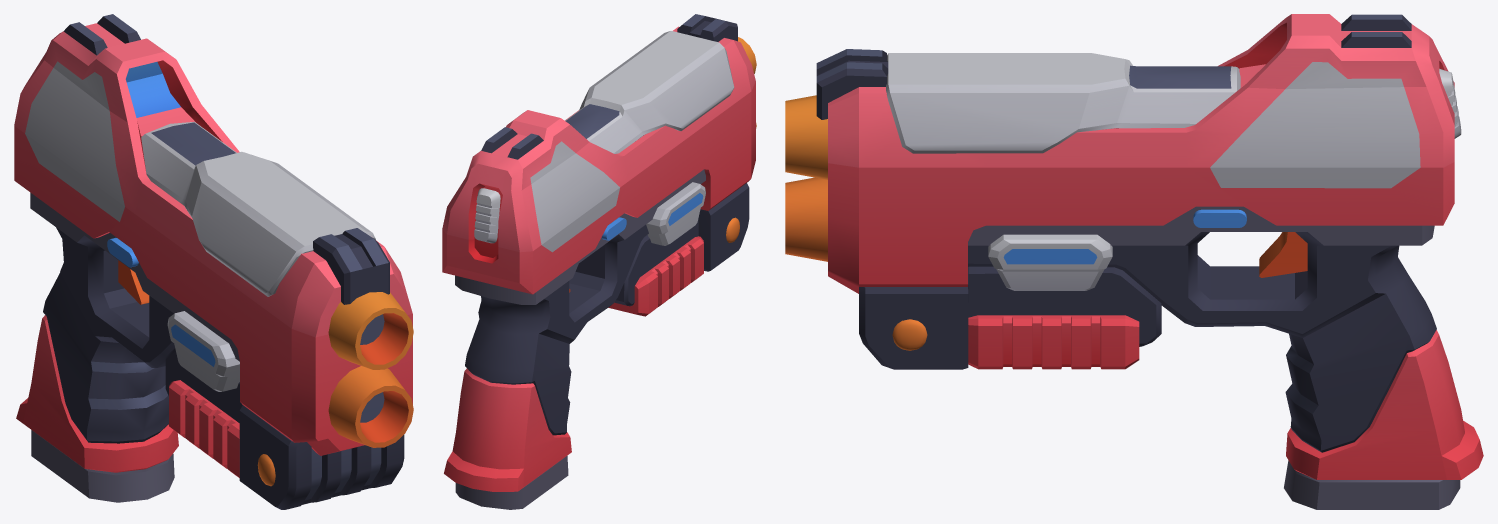
Rendered from Pistol B.fbx.
The picture shows the model from 3 angles, left to right: view 1: azimuth 30°, elevation 25°; view 2: azimuth 150°, elevation 25°; view 3: azimuth 270°, elevation 25°; orthographic projection. The views are drawn at different scales.
Parts seen in each view (by area): view 1: Pistol B; view 2: Pistol B; view 3: Pistol B.
Boxes of the visible parts, left/top/right/bottom form: Pistol B: left=14, top=14, right=413, bottom=509; Pistol B: left=442, top=14, right=756, bottom=509; Pistol B: left=785, top=14, right=1483, bottom=509.
Size of the model in its own units: 0.1619 by 0.5223 by 0.7137.
